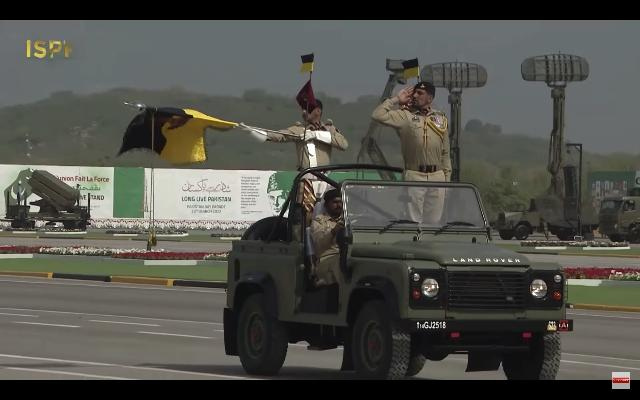plate: (412, 320, 448, 330)
